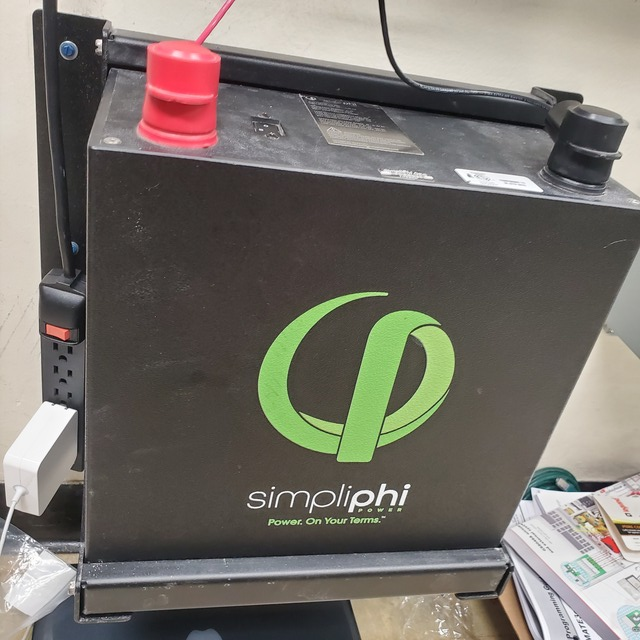battery: (72, 26, 640, 625)
